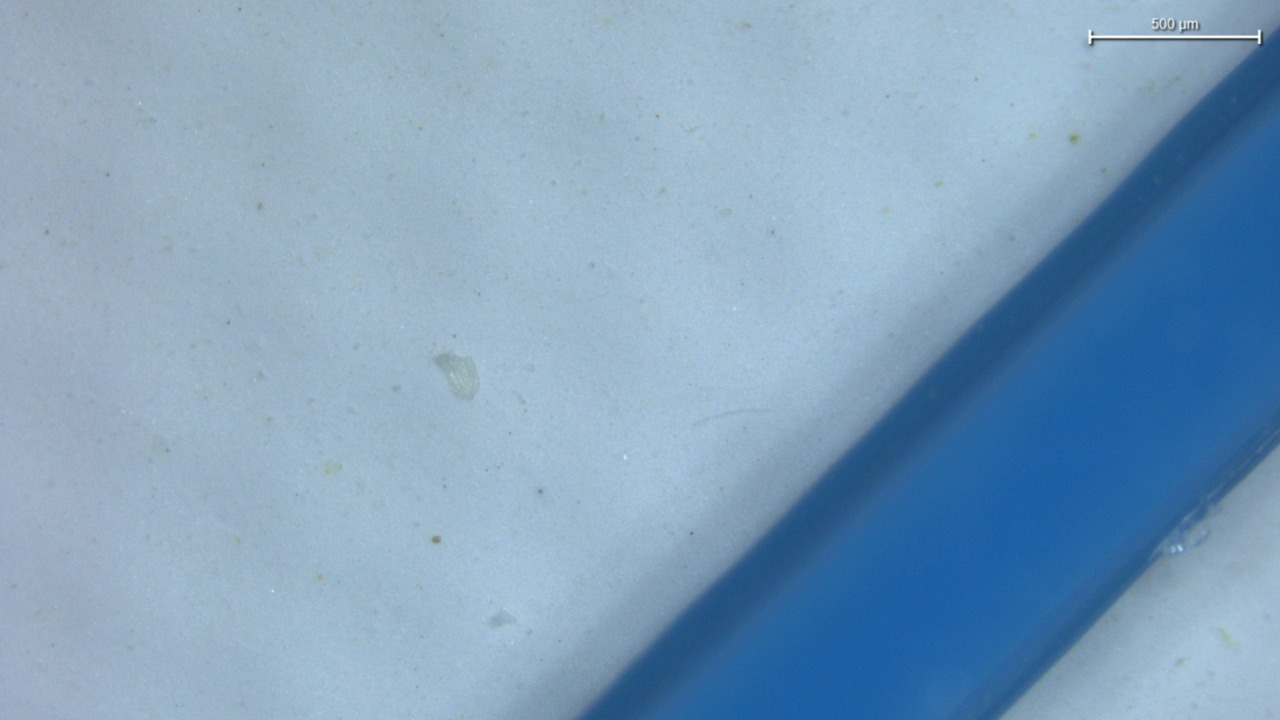microplastic_fragment: (434, 352, 479, 400)
